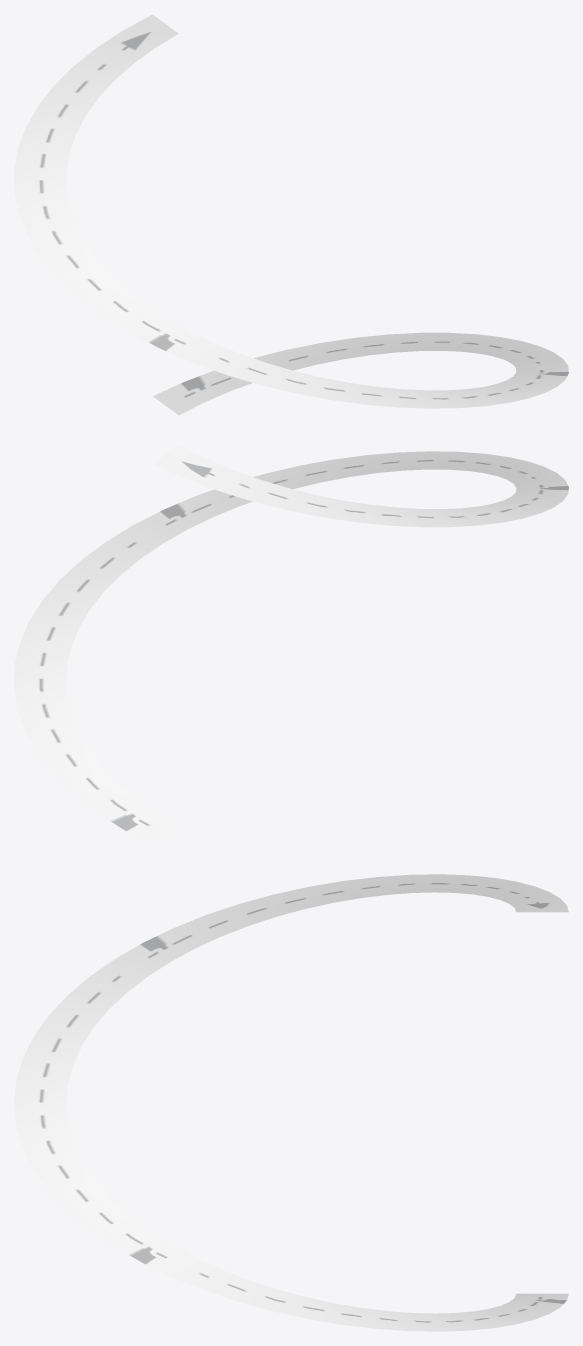
Rendered from Holo_Arrow_03.FBX.
3 views of the same model, one above another, from view 1: azimuth 30°, elevation 25°; view 2: azimuth 150°, elevation 25°; view 3: azimuth 270°, elevation 25° (orthographic).
Visible parts, largest first — view 1: Holo_Arrow_03; view 2: Holo_Arrow_03; view 3: Holo_Arrow_03.
Boxes of the visible parts, <box> form: Holo_Arrow_03: <box>14,14,568,415</box>; Holo_Arrow_03: <box>14,444,568,845</box>; Holo_Arrow_03: <box>14,874,568,1331</box>.
Bounding box in the file's own units: 1.64 × 1.24 × 1.64.
